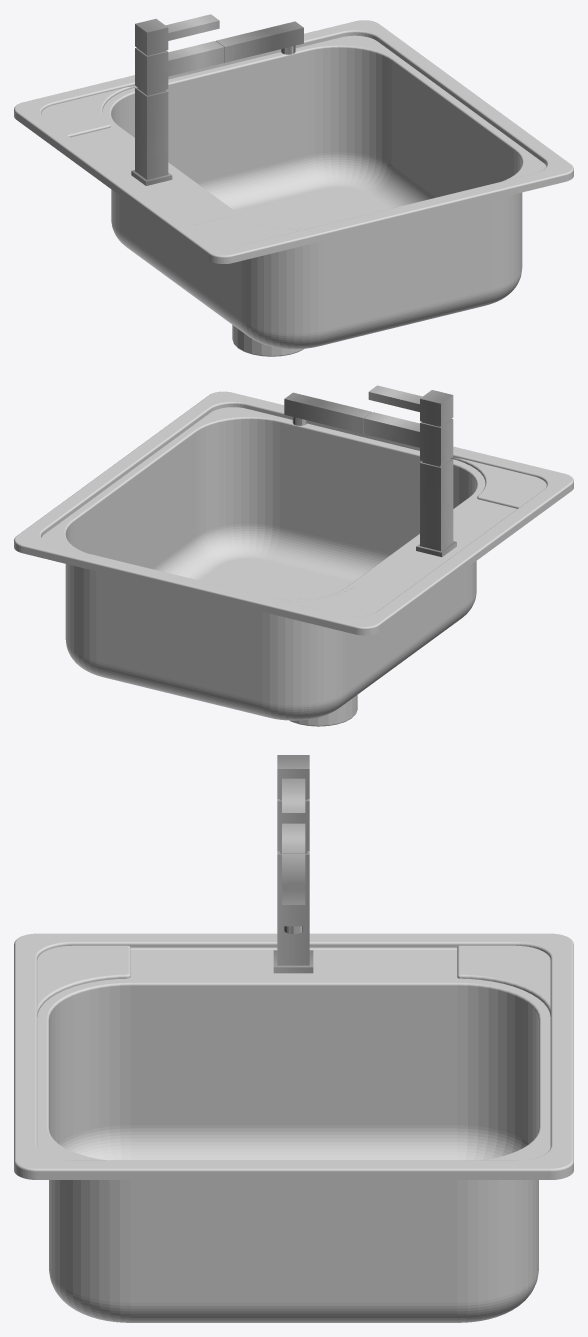
3 views of the same model, one above another, from view 1: azimuth 30°, elevation 25°; view 2: azimuth 150°, elevation 25°; view 3: azimuth 270°, elevation 25° (orthographic). The views are drawn at different scales.
Visible parts, largest first — view 1: mesh_5_ROOT__Component_28__Component_29_Layer0_198_198_198_d, mesh_0_ROOT_Layer0; view 2: mesh_5_ROOT__Component_28__Component_29_Layer0_198_198_198_d, mesh_0_ROOT_Layer0; view 3: mesh_5_ROOT__Component_28__Component_29_Layer0_198_198_198_d, mesh_0_ROOT_Layer0.
Boxes of the visible parts, x1=… form: mesh_5_ROOT__Component_28__Component_29_Layer0_198_198_198_d: x1=14, y1=20, x2=573, y2=356; mesh_0_ROOT_Layer0: x1=131, y1=14, x2=303, y2=185; mesh_5_ROOT__Component_28__Component_29_Layer0_198_198_198_d: x1=14, y1=391, x2=573, y2=726; mesh_0_ROOT_Layer0: x1=284, y1=385, x2=456, y2=557; mesh_5_ROOT__Component_28__Component_29_Layer0_198_198_198_d: x1=14, y1=933, x2=573, y2=1322; mesh_0_ROOT_Layer0: x1=273, y1=755, x2=313, y2=973.
Bounding box in the file's own units: 480 × 434 × 480.
Materials: 5 (1 with a texture image).
